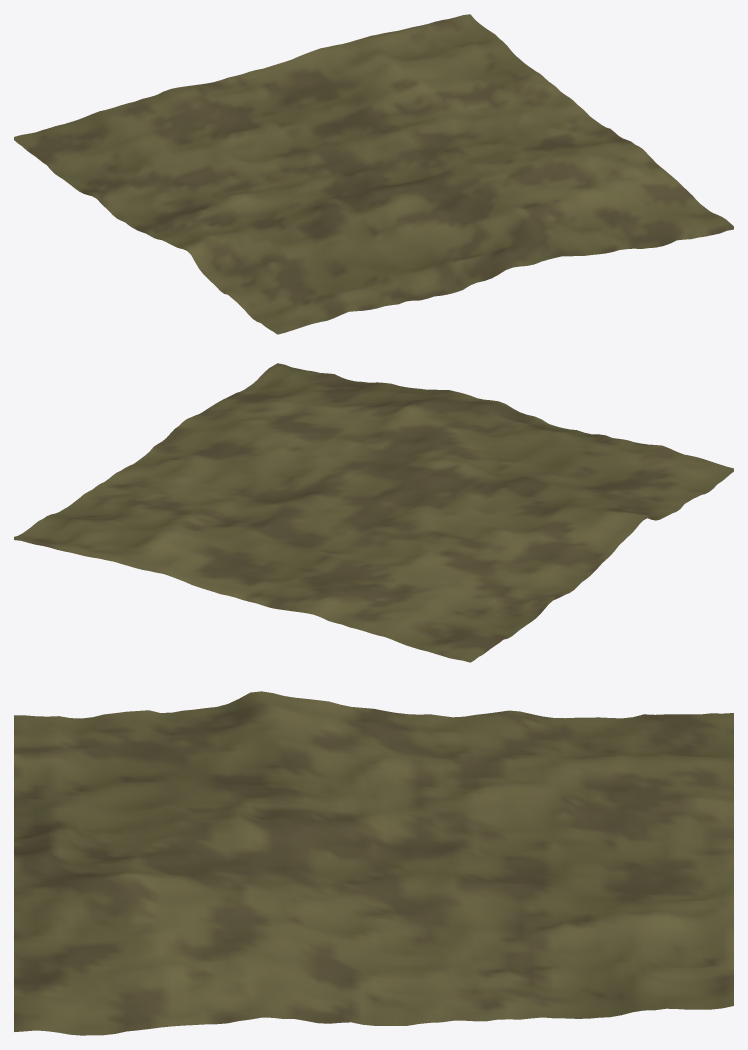
Rendered from land_f_09_06.glb.
3 renders of one model, top to bottom at view 1: azimuth 30°, elevation 25°; view 2: azimuth 150°, elevation 25°; view 3: azimuth 270°, elevation 25°, orthographic. The views are drawn at different scales.
Visible parts, largest first — view 1: land_f_09_06; view 2: land_f_09_06; view 3: land_f_09_06.
Part boxes in pixels (x1,y1,x2,y2): land_f_09_06: (14, 14, 733, 334); land_f_09_06: (14, 363, 733, 662); land_f_09_06: (14, 691, 733, 1035).
Size of the model in its own units: 3840 by 272 by 3840.
